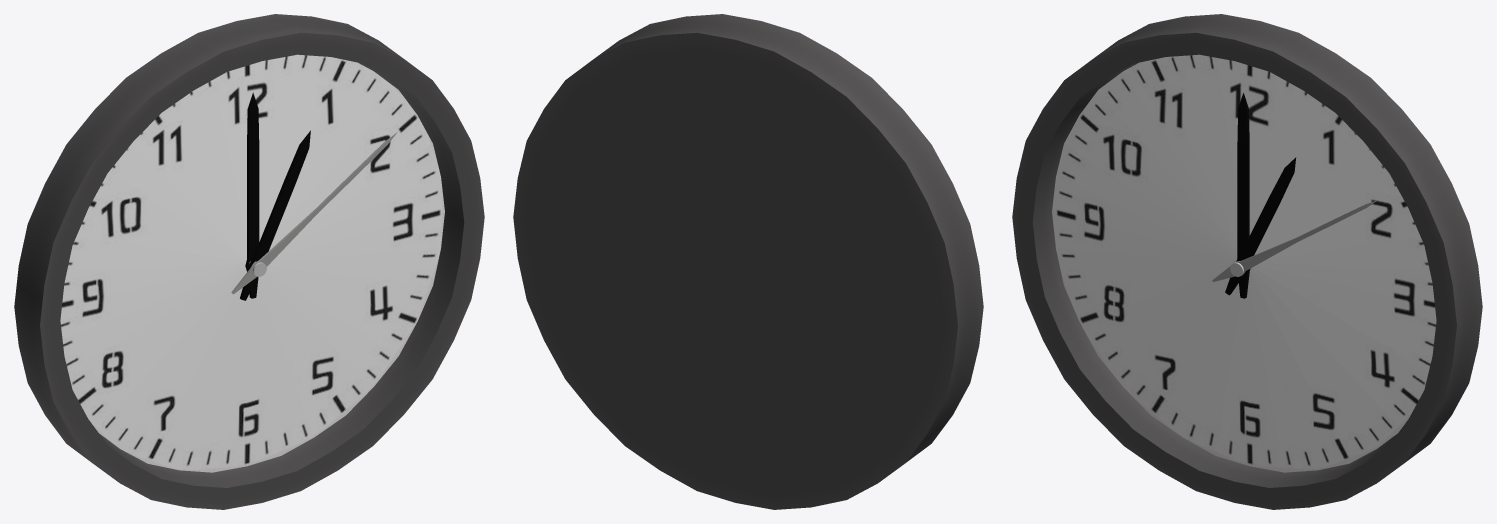
The model's file is Clock.fbx.
3 views of the same model, side by side, from view 1: azimuth 30°, elevation 25°; view 2: azimuth 150°, elevation 25°; view 3: azimuth 330°, elevation 25° (orthographic).
Parts seen in each view (by area): view 1: Clock, Hour, Minute, Second; view 2: Clock; view 3: Clock, Hour, Minute, Second.
Part boxes in pixels (<box>): Clock: <box>14,14,484,509</box>; Hour: <box>245,92,259,298</box>; Minute: <box>240,130,310,300</box>; Second: <box>231,132,397,294</box>; Clock: <box>513,14,983,509</box>; Clock: <box>1012,14,1482,509</box>; Hour: <box>1237,93,1250,298</box>; Minute: <box>1225,157,1296,295</box>; Second: <box>1212,200,1377,281</box>.
Bounding box in the file's own units: 10 × 9.95 × 1.
Materials: 1 (1 with a texture image).
